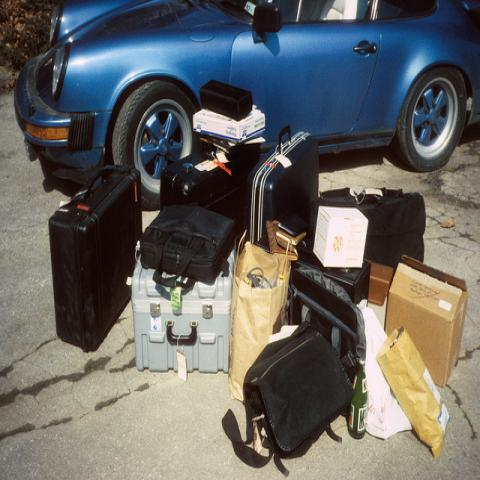car: (14, 0, 480, 210)
